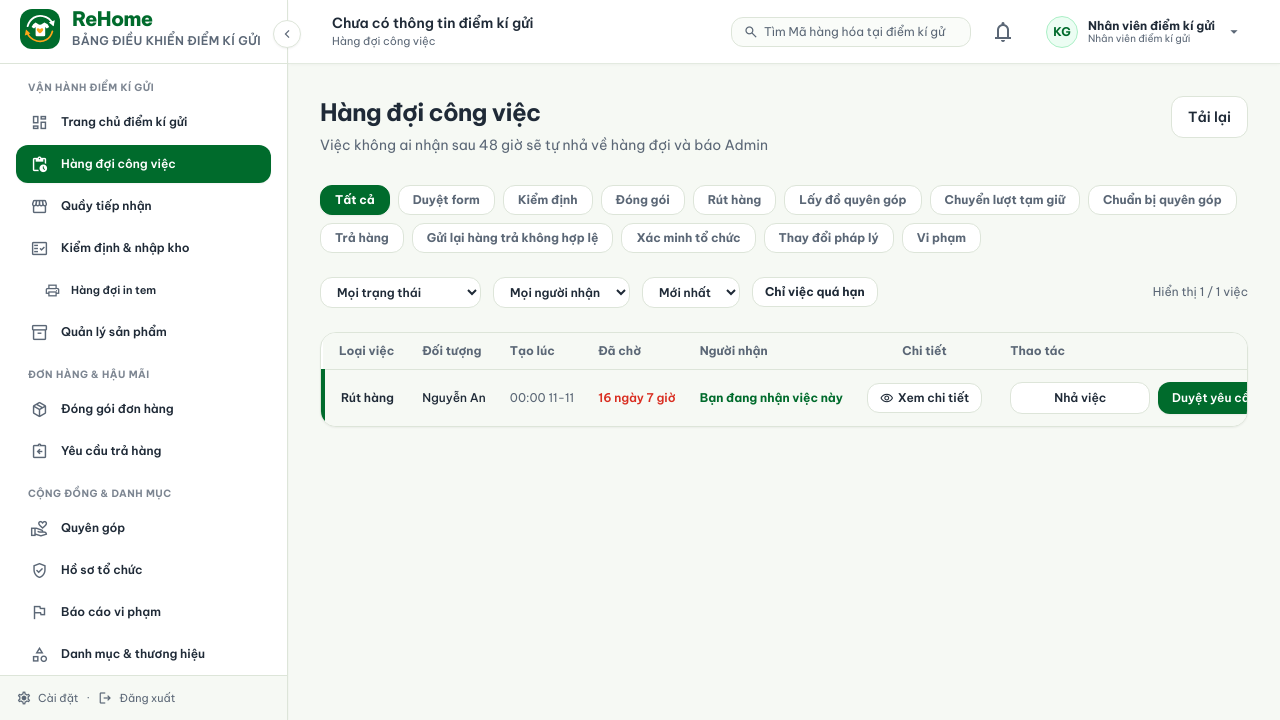
it: API 28 queue contract › shows item photo, name, SKU, Member and Duyệt/Từ chối for PENDING_APPROVAL withdrawal, then transitions to handover after approve
Expected: the link "Mở việc" is not shown
Click the button "Duyệt yêu cầu" at (1214, 398), box [1158,382,1270,414]
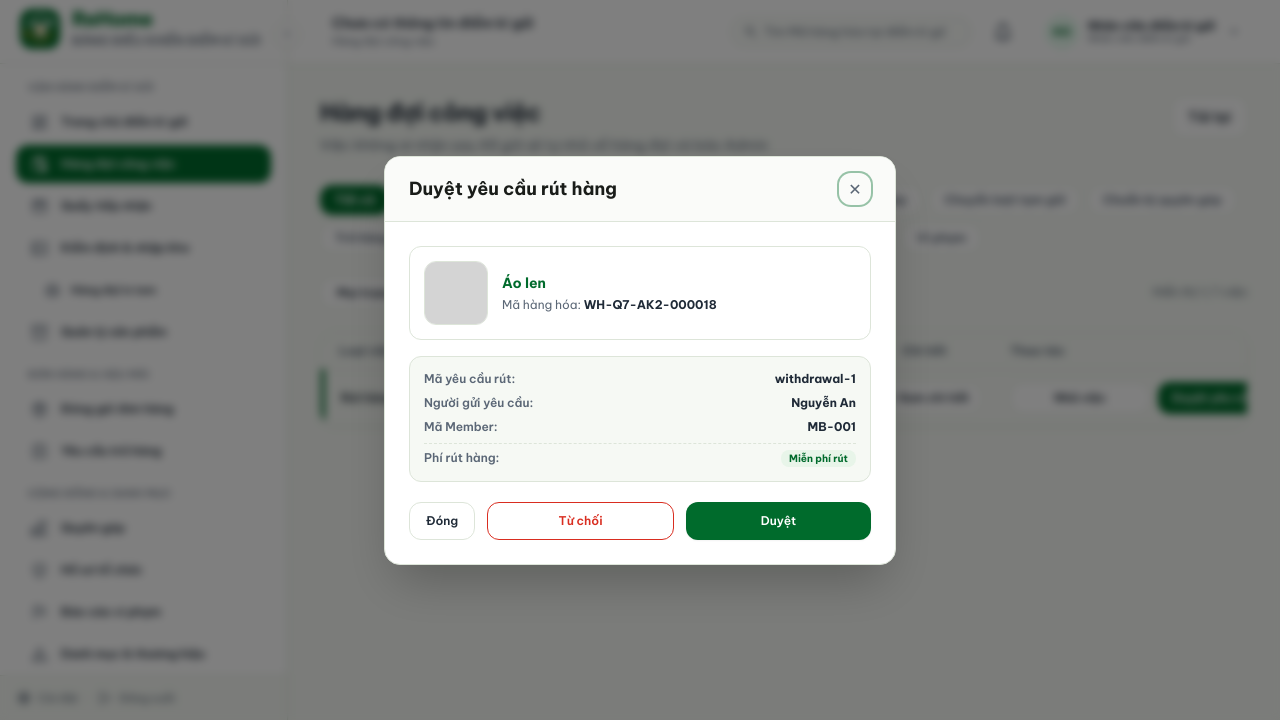
Expected: the text "WH-Q7-AK2-000018" is shown, [584,296,717,312]
Expected: the text "Nguyễn An" is shown, [791,394,856,410]
Expected: the text "MB-001" is shown, [808,418,856,434]
Click the button "Duyệt" at (779, 520), box [686,502,871,540]
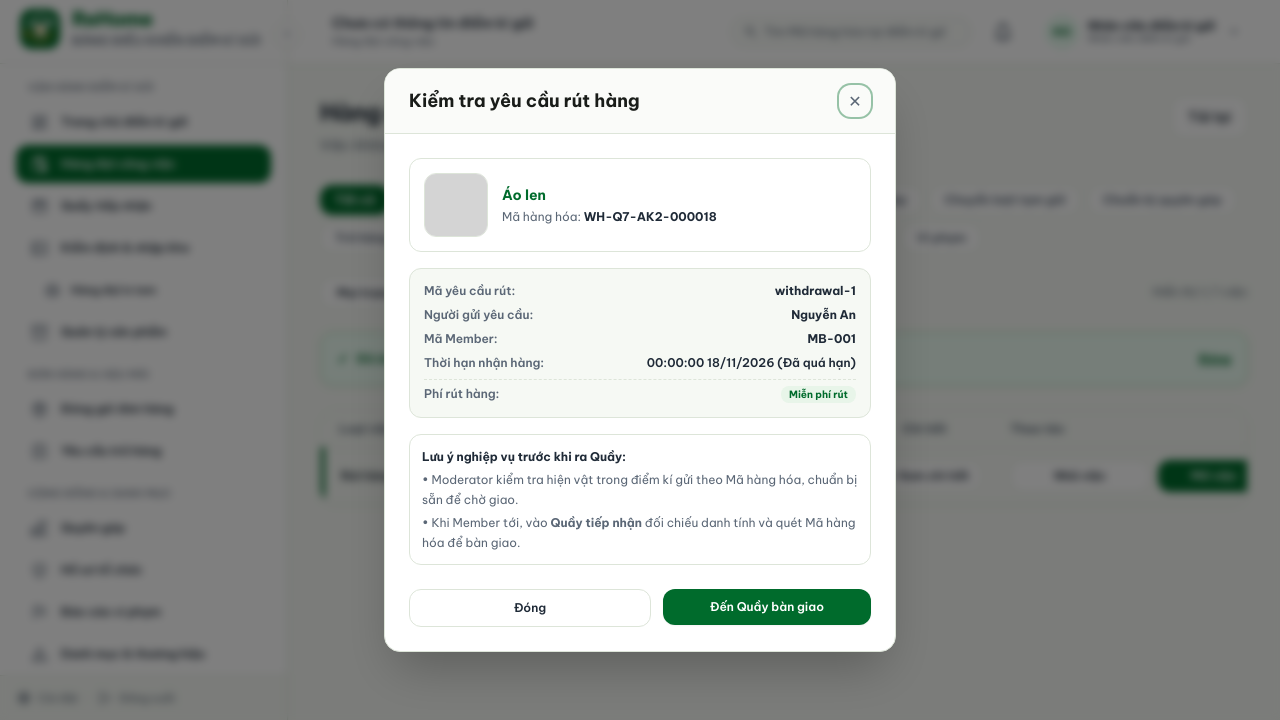
Expected: the link "Đến Quầy bàn giao" is shown, [663,589,871,627]
